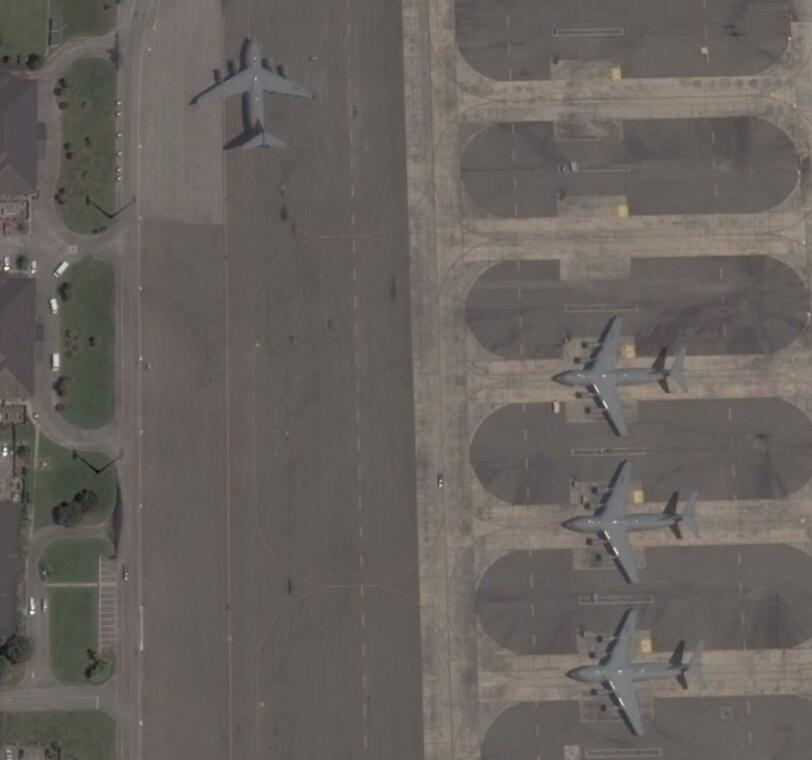A3: (564, 611, 707, 736), (554, 312, 690, 438), (563, 463, 702, 585), (191, 38, 316, 156)
